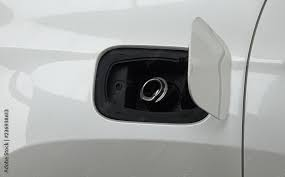open: (92, 42, 214, 128)
